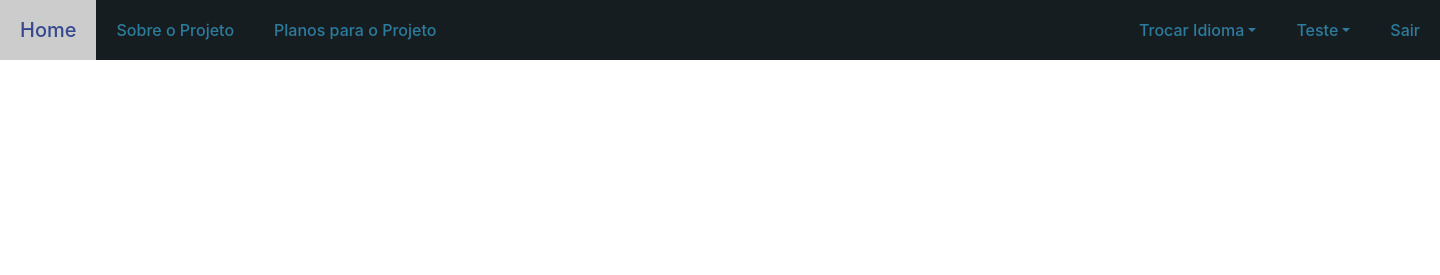
should render the account dropdown and show the three options
Expected: the link "Editar Conta" is not shown
Expected: the link "Alterar Senha" is not shown
Note: Clica no botão do dropdown
Click the button "Teste": [1323, 30] box [1276,0,1370,60]
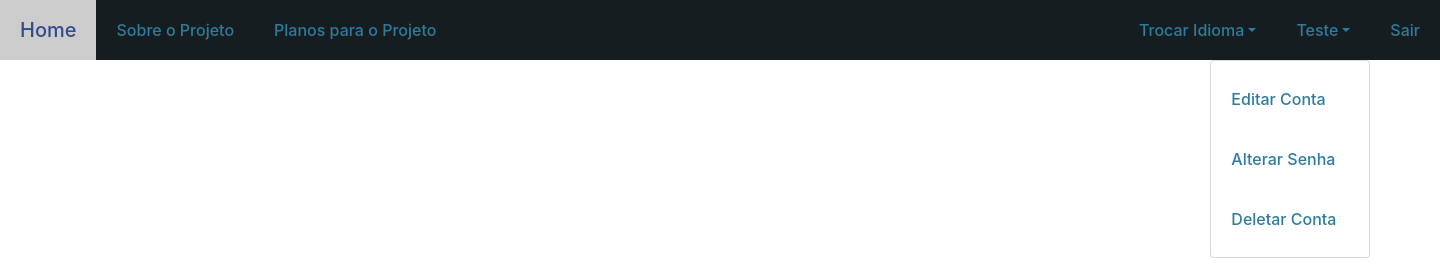
Expected: the link "Editar Conta" is shown, [1231,89,1326,109]
Expected: the link "Alterar Senha" is shown, [1231,149,1335,169]
Expected: the button "Deletar Conta" is shown, [1231,209,1336,229]
